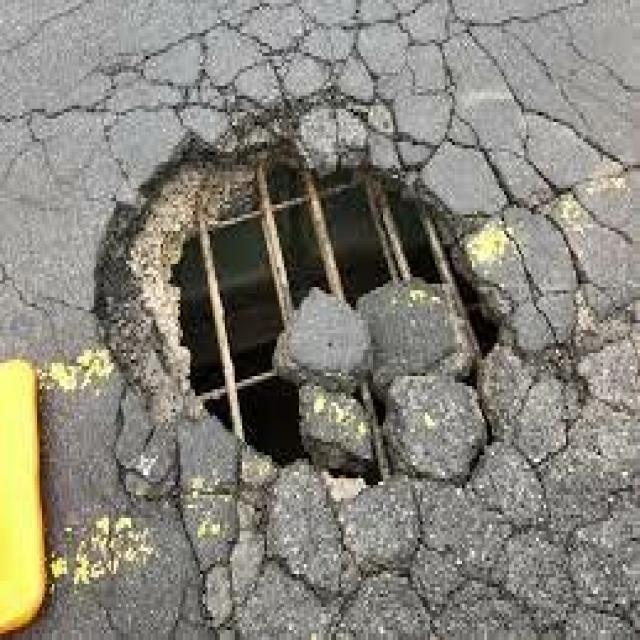Buraco: (90, 135, 506, 492)
